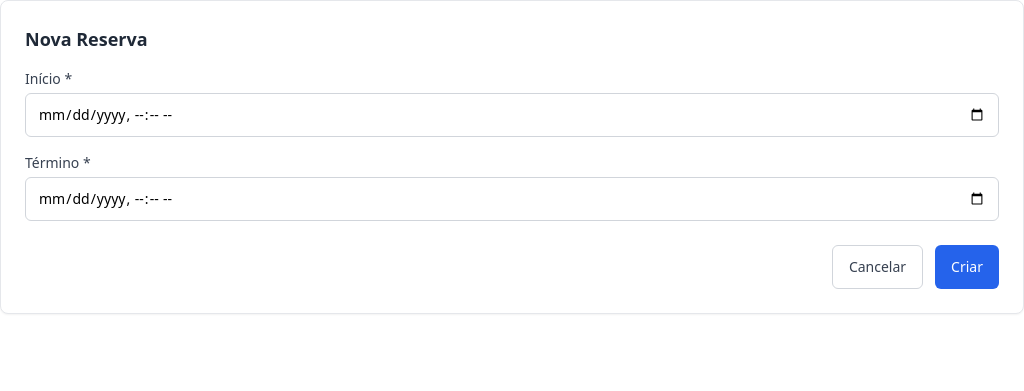
Test: ReservationForm › shows conflict error message for HTTP 409
Type "2025-06-01T14:00" into the field labelled "Início *".
click(512, 115); type("2025-06-01T14:00")  # box [25,93,999,137]
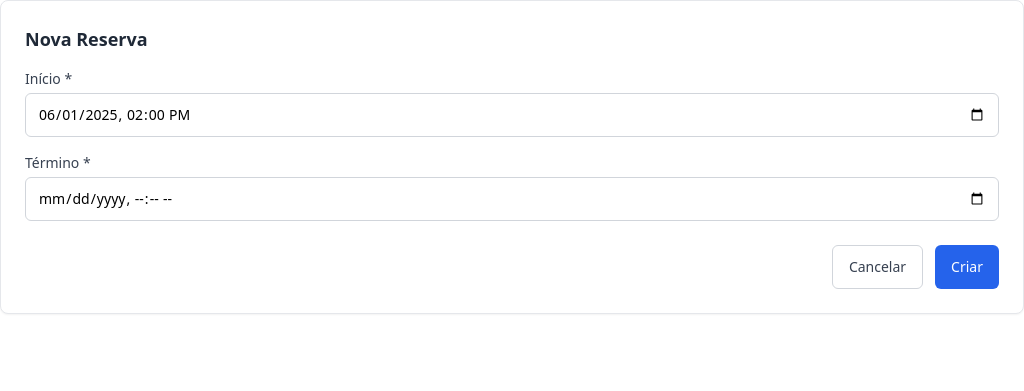
Type "2025-06-01T16:00" into the field labelled "Término *".
click(512, 199); type("2025-06-01T16:00")  # box [25,177,999,221]
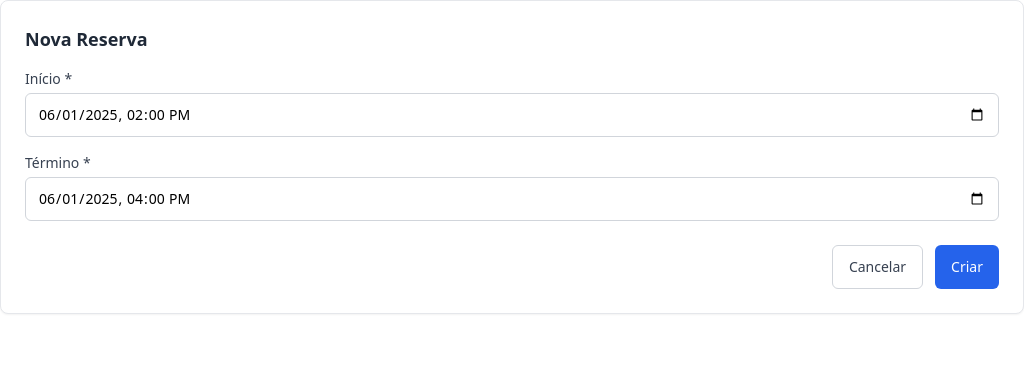
Click the button "Criar".
click(967, 267)  # box [935,245,999,289]
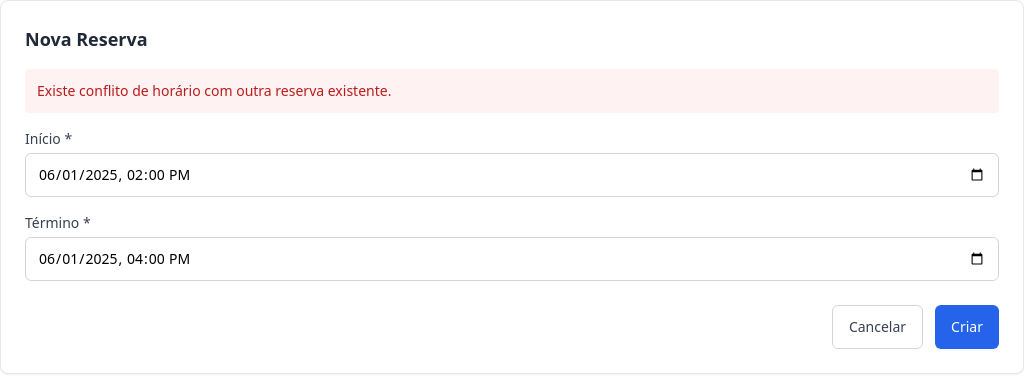
Now the text "Existe conflito de horário com outra reserva existente." is shown, box [25,69,999,113]
